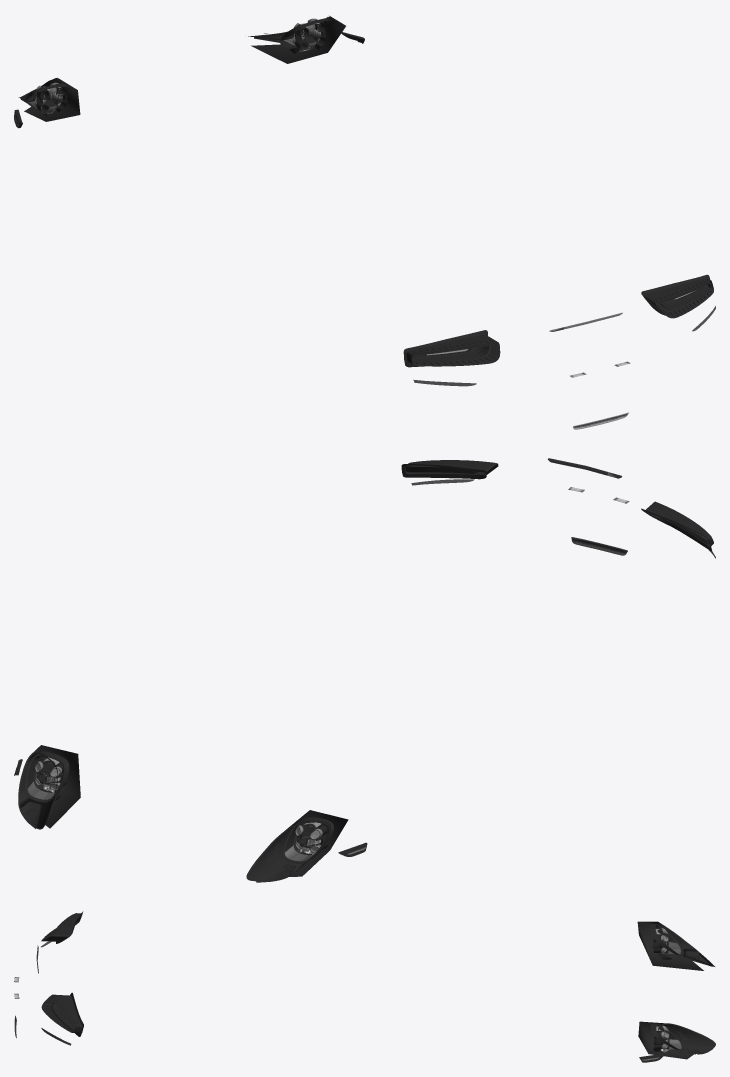
File: Ligth_Geo.obj
The picture shows the model from 3 angles, top to bottom: view 1: azimuth 30°, elevation 25°; view 2: azimuth 150°, elevation 25°; view 3: azimuth 270°, elevation 25°; orthographic projection. The views are drawn at different scales.
Parts seen in each view (by area): view 1: p:Kit1_Light_Geo_lodA_Kit1_Light_Geo_lodA_Porsche_918SpyderRewar; view 2: p:Kit1_Light_Geo_lodA_Kit1_Light_Geo_lodA_Porsche_918SpyderRewar; view 3: p:Kit1_Light_Geo_lodA_Kit1_Light_Geo_lodA_Porsche_918SpyderRewar.
Boxes of the visible parts, left/top/right/bottom form: p:Kit1_Light_Geo_lodA_Kit1_Light_Geo_lodA_Porsche_918SpyderRewar: left=14, top=16, right=715, bottom=429; p:Kit1_Light_Geo_lodA_Kit1_Light_Geo_lodA_Porsche_918SpyderRewar: left=14, top=458, right=715, bottom=882; p:Kit1_Light_Geo_lodA_Kit1_Light_Geo_lodA_Porsche_918SpyderRewar: left=14, top=911, right=715, bottom=1062.
Size of the model in its own units: 2.86 by 0.7405 by 6.56.
